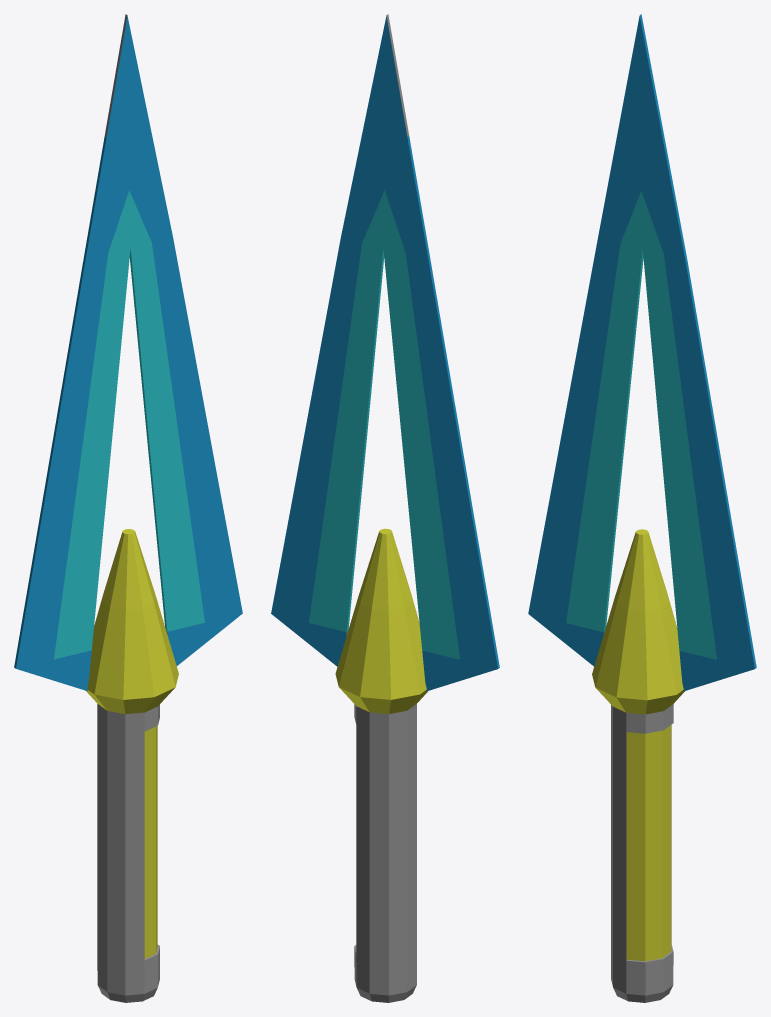
Rendered from espada.fbx.
3 renders of one model, left to right at view 1: azimuth 30°, elevation 25°; view 2: azimuth 150°, elevation 25°; view 3: azimuth 330°, elevation 25°, orthographic.
Visible parts, largest first — view 1: Cylinder.003; view 2: Cylinder.003; view 3: Cylinder.003.
Part boxes in pixels (x1,y1,x2,y2): Cylinder.003: (14, 14, 242, 1002); Cylinder.003: (271, 14, 499, 1002); Cylinder.003: (528, 14, 756, 1002).
Bounding box in the file's own units: 98.69 × 409 × 38.7.
